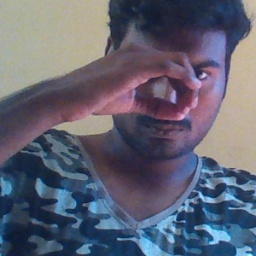O: (72, 38, 201, 130)
